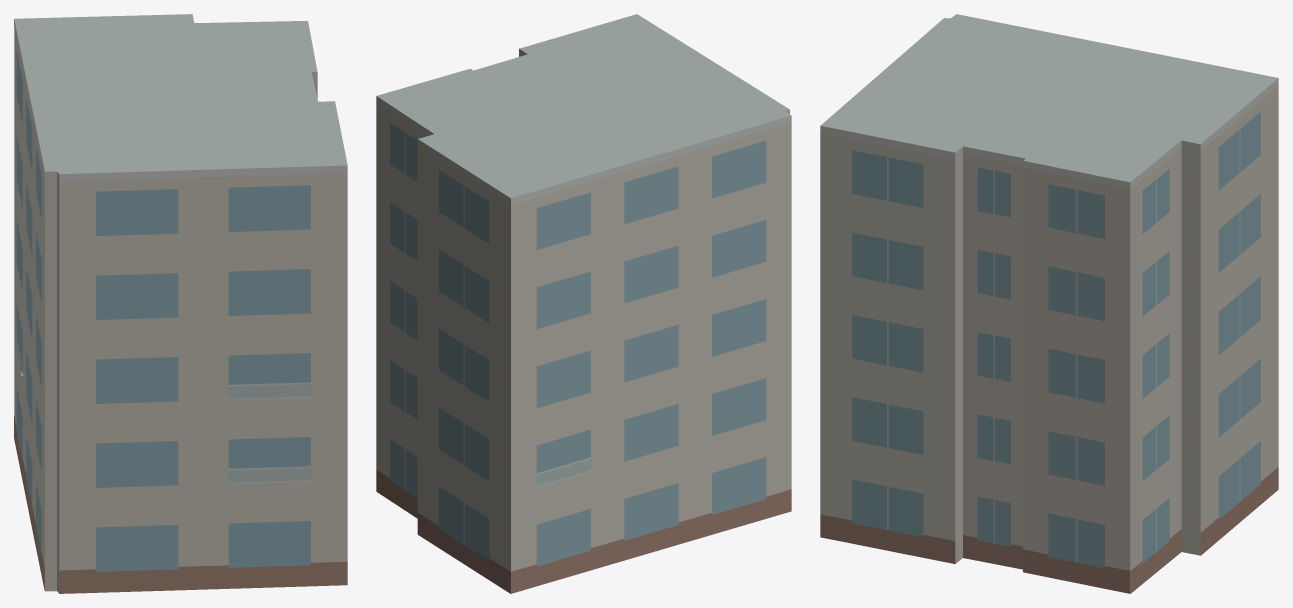
Rendered from survey-upis-32630381.glb.
3 views of the same model, side by side, from view 1: azimuth 30°, elevation 25°; view 2: azimuth 150°, elevation 25°; view 3: azimuth 270°, elevation 25° (orthographic). The views are drawn at different scales.
Visible parts, largest first — view 1: survey-upis-32630381.tmp; view 2: survey-upis-32630381.tmp; view 3: survey-upis-32630381.tmp.
Part boxes in pixels (x1=…): survey-upis-32630381.tmp: x1=14, y1=14, x2=347, y2=593; survey-upis-32630381.tmp: x1=376, y1=14, x2=791, y2=593; survey-upis-32630381.tmp: x1=820, y1=14, x2=1278, y2=593.
Bounding box in the file's own units: 12.38 × 14.1 × 14.24.
